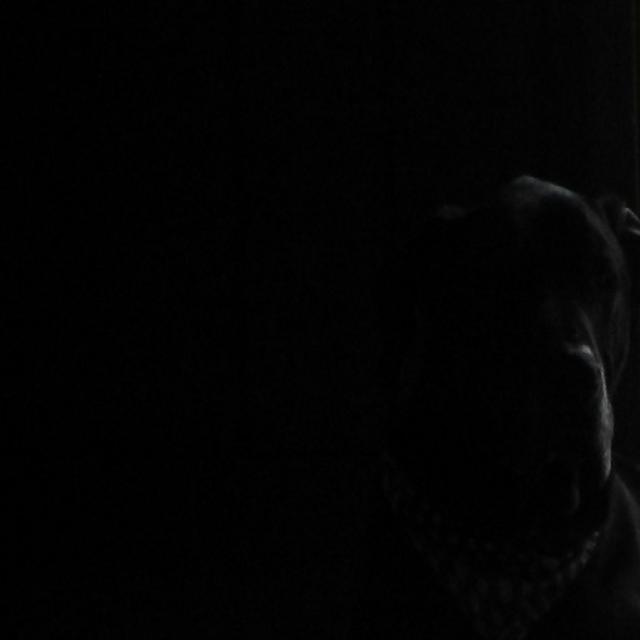dog: (283, 86, 640, 630)
